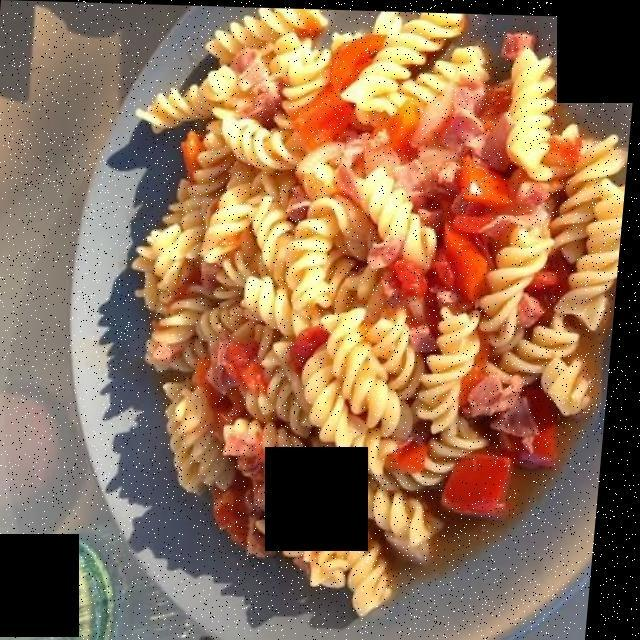pasta: (141, 15, 623, 596)
